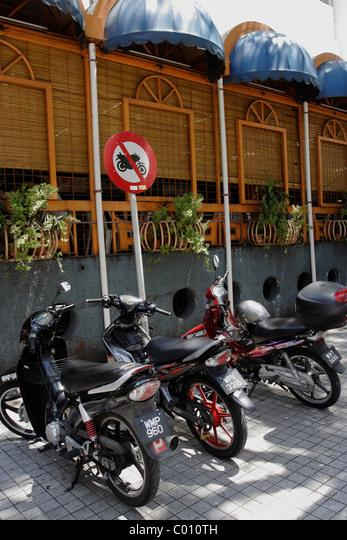No Parking: (110, 130, 162, 191)
